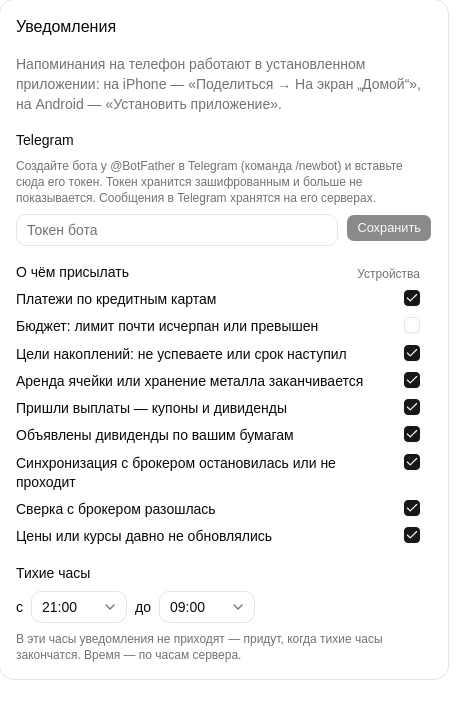
Scenario: NotificationsSection › lets the owner give the space a bot
Type " 123456:the-family-bot-token-0000 " into the field labelled "Токен бота" at (177, 230), box [16, 214, 338, 246]
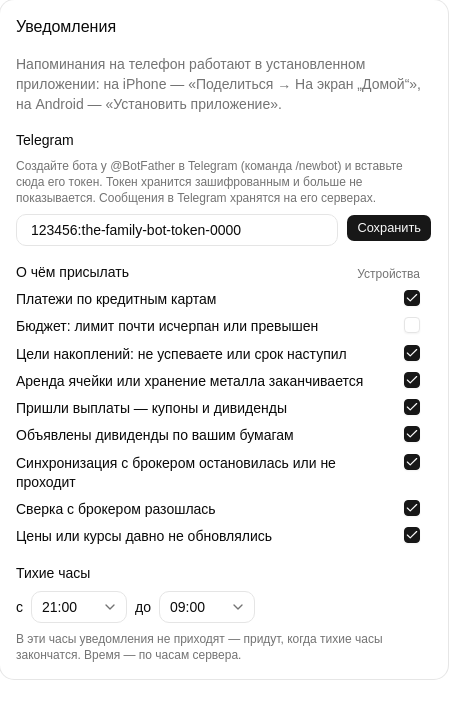
Click the button "Сохранить" at (389, 228), box [346, 214, 432, 242]
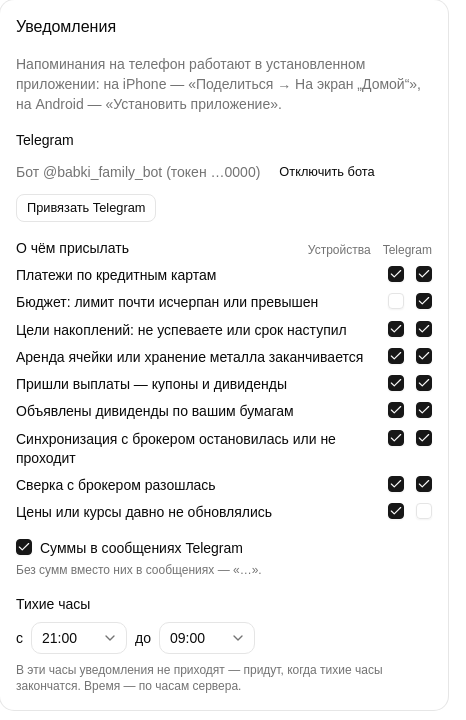
Now the text "Бот @babki_family_bot (токен …0000)" is shown, box [16, 162, 260, 182]
